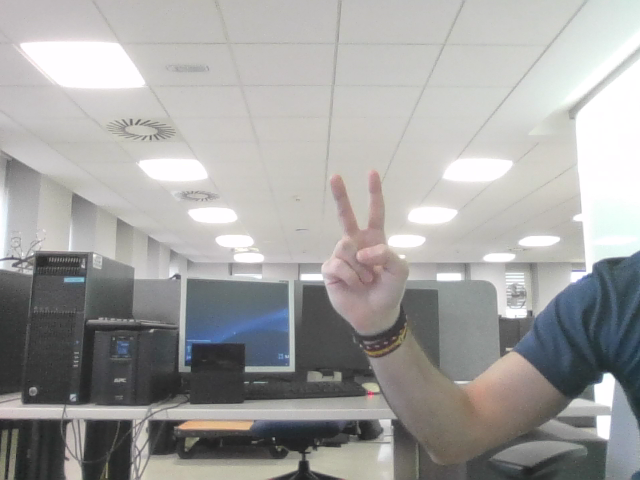2Dedos: (335, 182, 395, 289)
